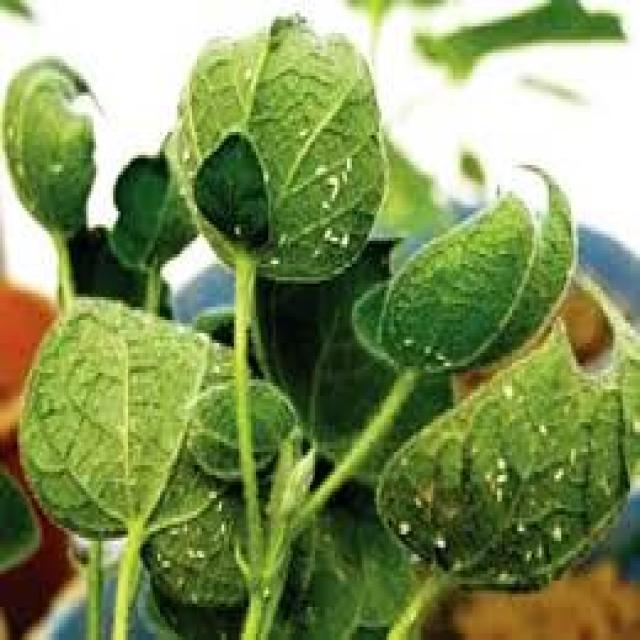Leaf Curl Virus: (150, 92, 521, 524)
